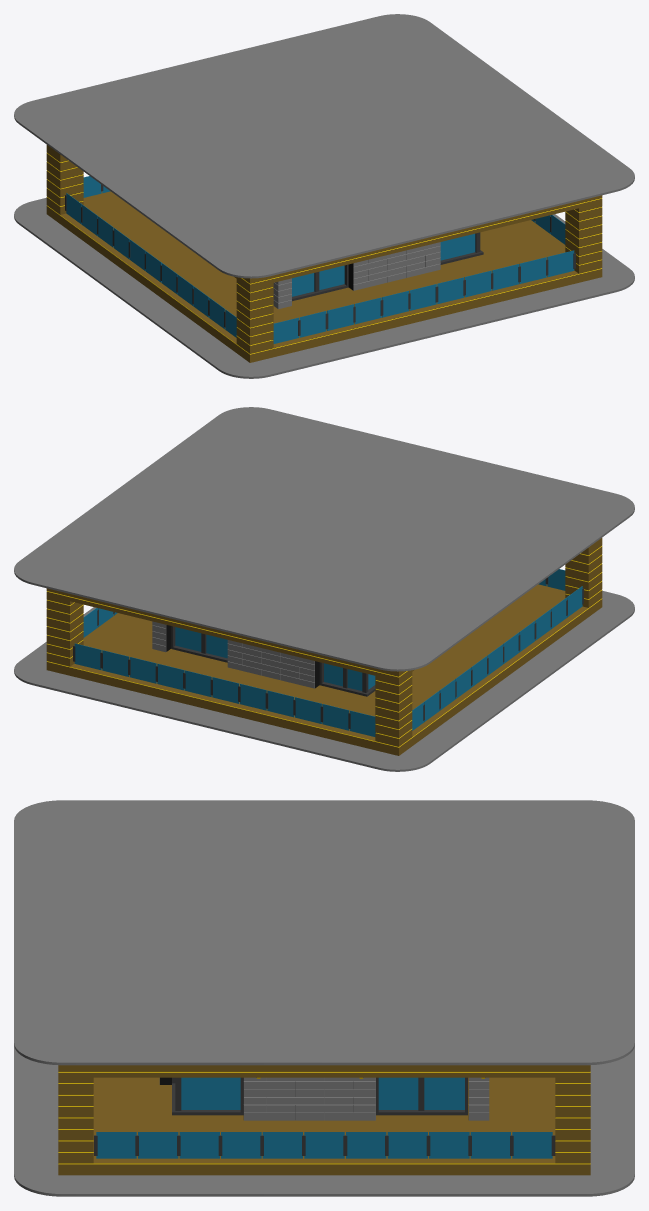
Rendered from SM_MK11_Middle_003.fbx.
3 views of the same model, one above another, from view 1: azimuth 30°, elevation 25°; view 2: azimuth 150°, elevation 25°; view 3: azimuth 270°, elevation 25° (orthographic). The views are drawn at different scales.
Parts seen in each view (by area): view 1: SM_MK11_Middle_003; view 2: SM_MK11_Middle_003; view 3: SM_MK11_Middle_003.
Part boxes in pixels (x1,y1,x2,y2): SM_MK11_Middle_003: (14, 14, 634, 378); SM_MK11_Middle_003: (14, 407, 634, 771); SM_MK11_Middle_003: (14, 800, 634, 1196).
Size of the model in its own units: 2100 by 500 by 2100.
